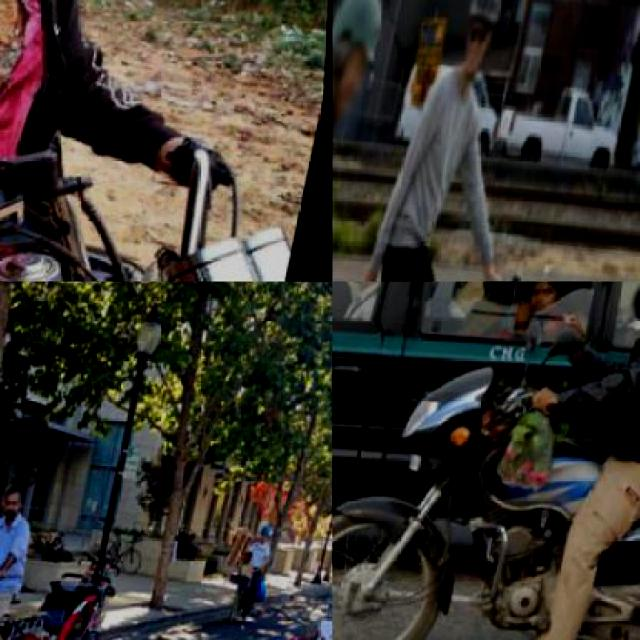With Helmet: (332, 0, 393, 135), (452, 0, 509, 95), (257, 524, 275, 551)
Without Helmet: (0, 483, 29, 523)
